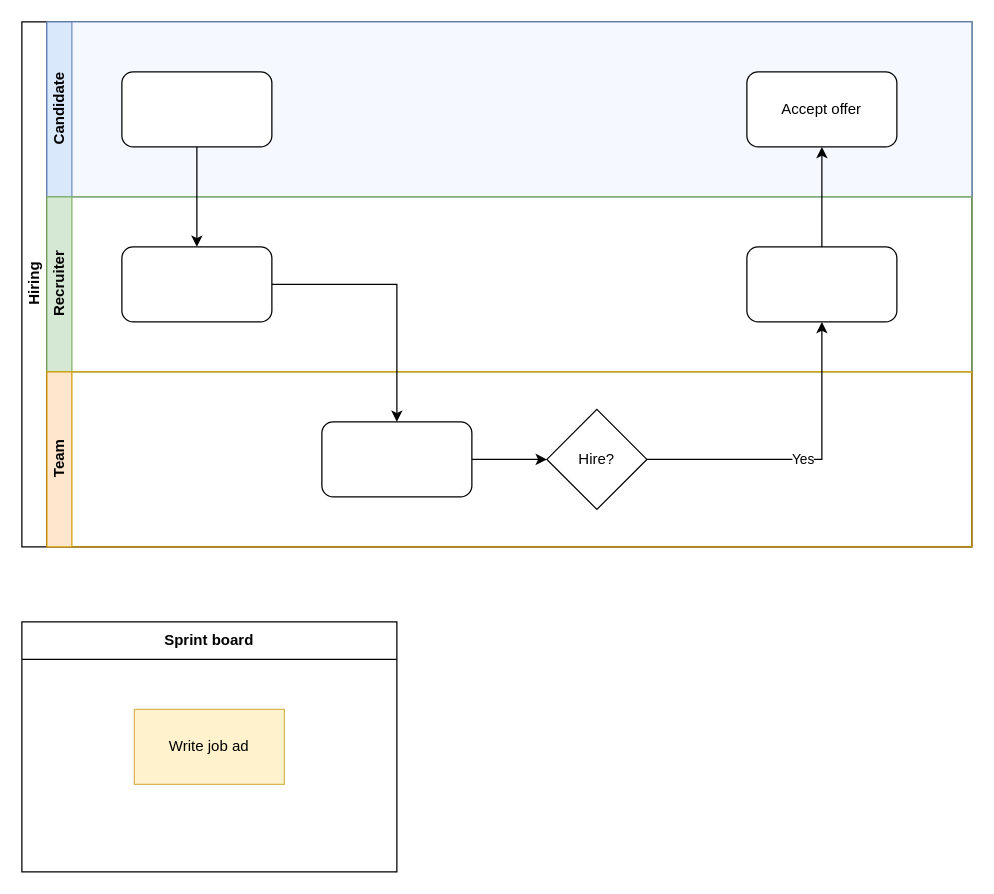
This 994x894 diagram has some shape labels left out. The centre of each missing label's shape, as x and y in pixels:
"Apply" belongs at point (196, 109).
"Interview" belongs at point (396, 459).
"Screen CV" belongs at point (196, 284).
"Send offer" belongs at point (821, 284).
